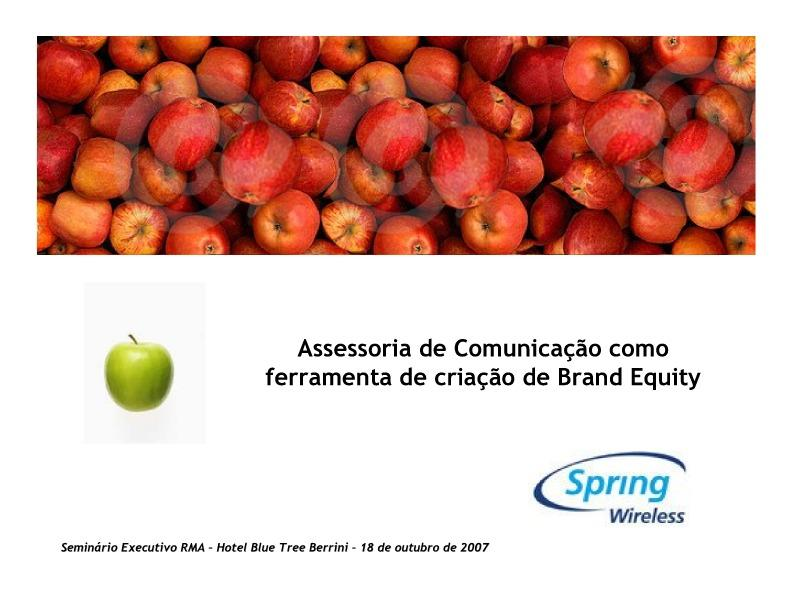subtitle: (38, 511, 503, 570)
title: (248, 323, 711, 402)
